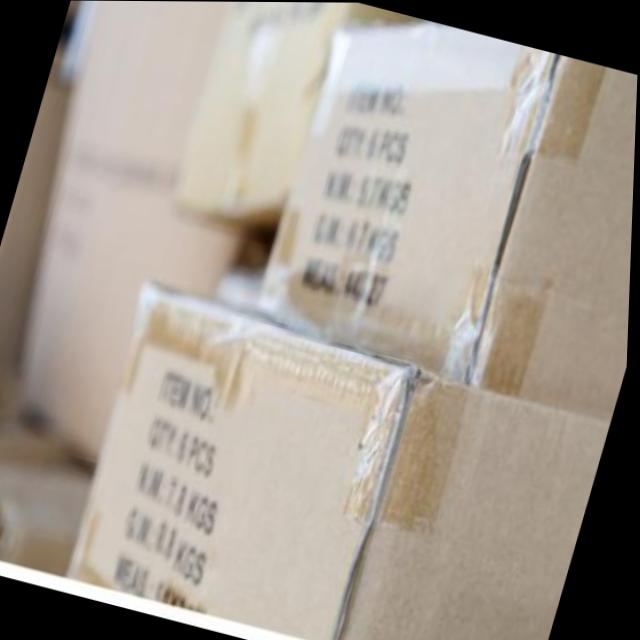box: (55, 280, 620, 640), (244, 1, 640, 416), (168, 1, 349, 240)
